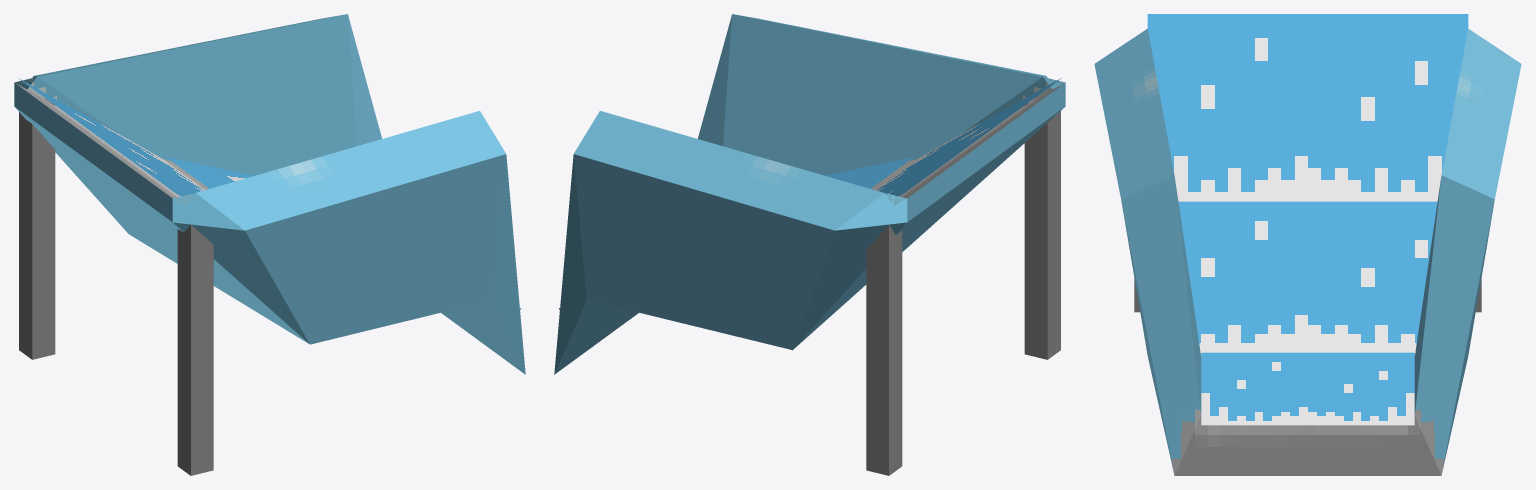
File: slipslide.gltf
3 views of the same model, side by side, from view 1: azimuth 30°, elevation 25°; view 2: azimuth 150°, elevation 25°; view 3: azimuth 270°, elevation 25° (orthographic).
Visible parts, largest first — view 1: beveled_cuboid, mesh (×4); view 2: beveled_cuboid, mesh (×4); view 3: mesh (×3), beveled_cuboid.
Boxes of the visible parts, left/top/right/bottom form: beveled_cuboid: left=14, top=14, right=525, bottom=374; mesh (×4): left=18, top=78, right=254, bottom=475; beveled_cuboid: left=554, top=14, right=1065, bottom=374; mesh (×4): left=825, top=78, right=1061, bottom=475; mesh (×3): left=1147, top=14, right=1468, bottom=425; beveled_cuboid: left=1094, top=28, right=1521, bottom=475.
Bounding box in the file's own units: 0.512 × 0.3652 × 0.5.
4 materials, 4 textured.
